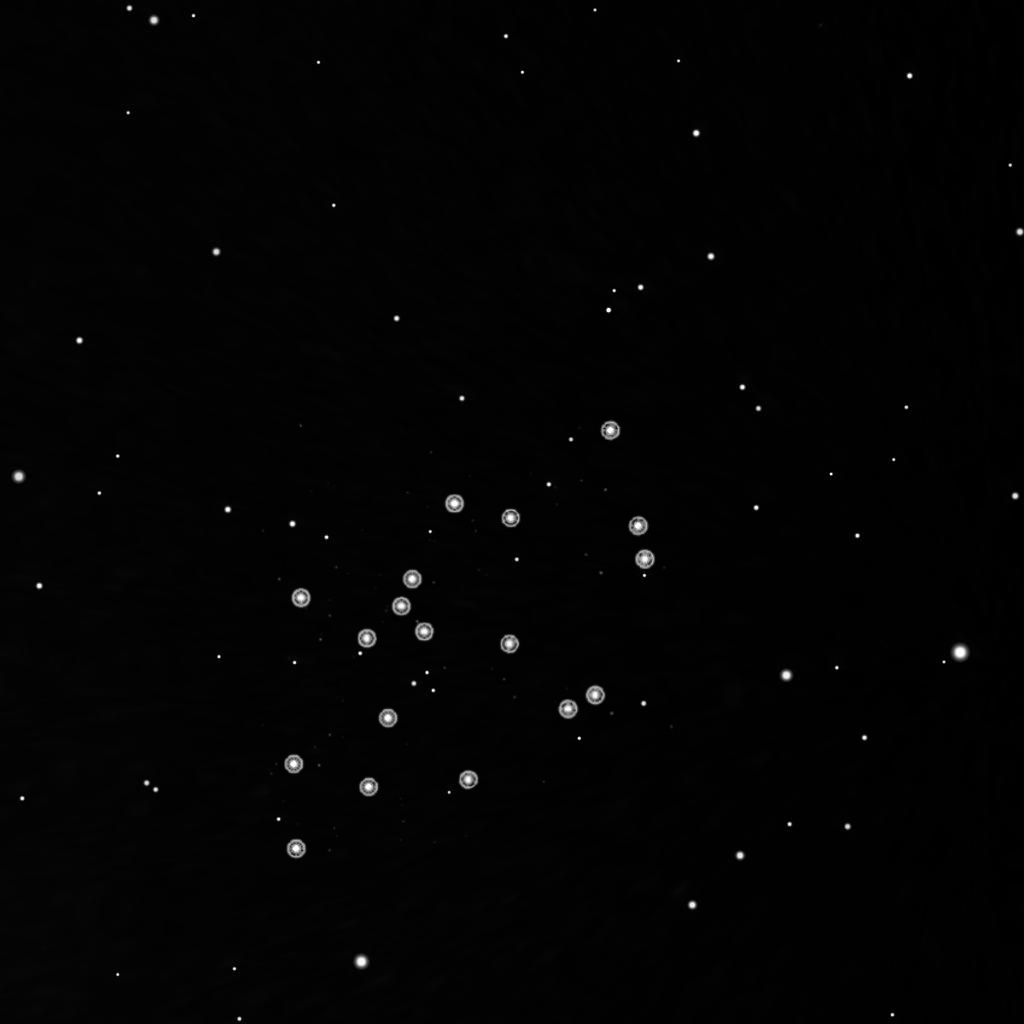canis_major: (350, 489, 521, 654)
